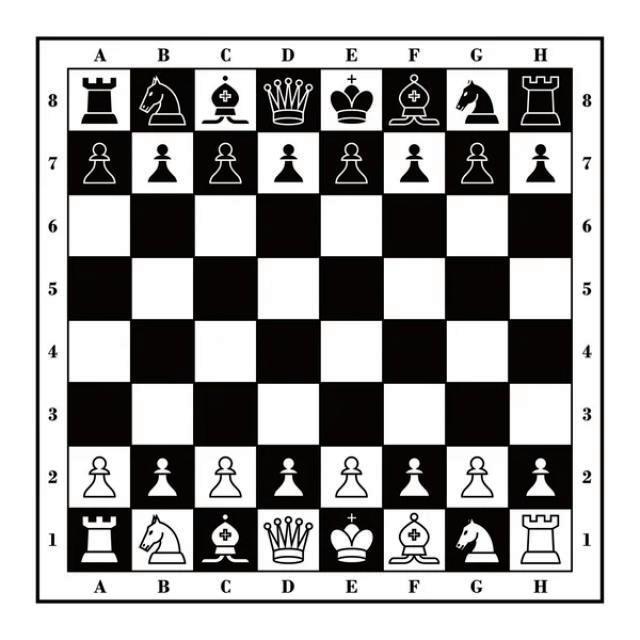chess-table-corners: (50, 556, 81, 588), (54, 54, 83, 85), (561, 557, 590, 587), (560, 58, 584, 82)
